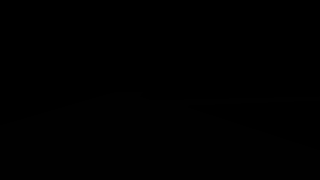turn_right: (212, 47, 231, 68)
